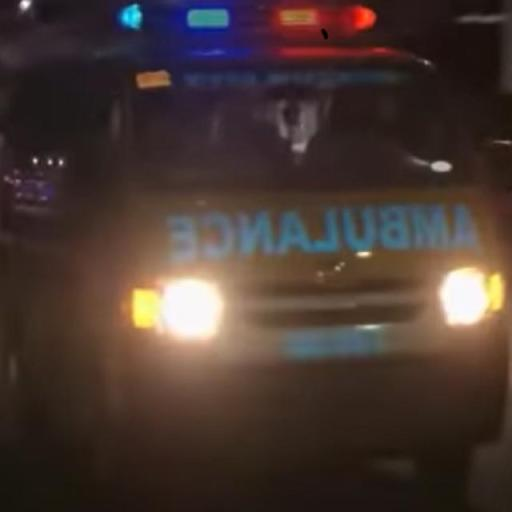Police car: (1, 2, 512, 478)
